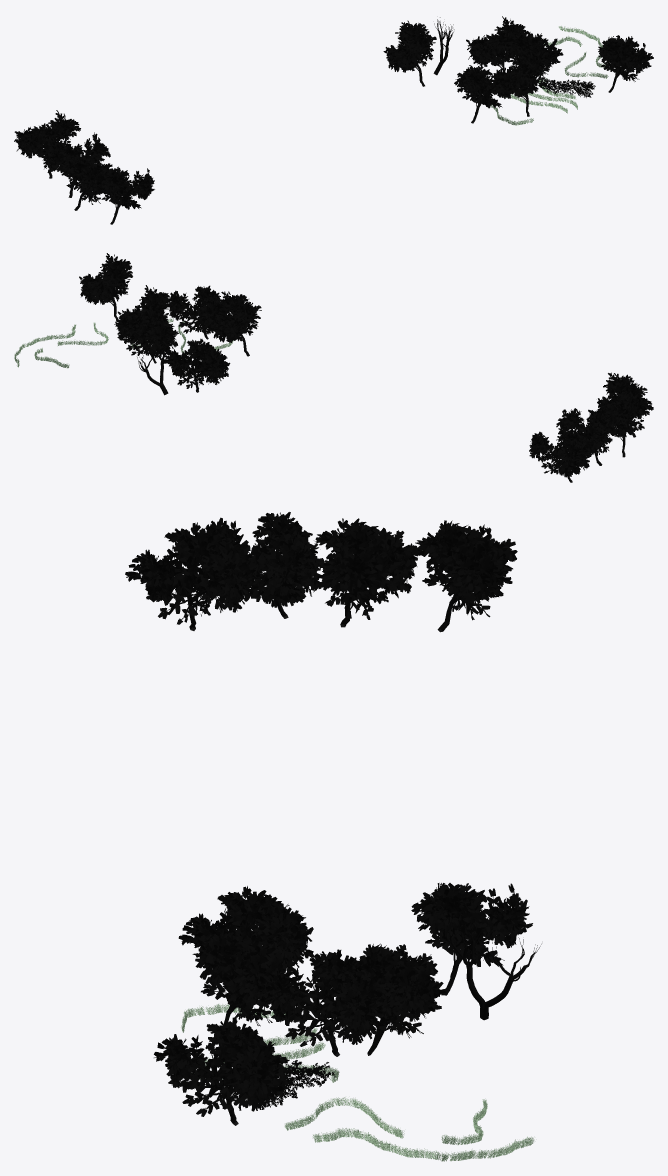
The model's file is Floral_Export.fbx.
3 renders of one model, top to bottom at view 1: azimuth 30°, elevation 25°; view 2: azimuth 150°, elevation 25°; view 3: azimuth 270°, elevation 25°, orthographic. The views are drawn at different scales.
Visible parts, largest first — view 1: birchBlowing7Leaf, birchBlowing3Leaf, birchBlowing8Leaf, birchBlowing15Leaf, birchBlowing5Leaf, birchBlowing9Leaf, birchBlowing11Leaf, birchBlowing4Leaf, birchBlowing12Leaf, birchBlowing6Leaf, sumacLight1Leaf, birchDead1Main; view 2: birchBlowing7Leaf, birchBlowing5Leaf, birchBlowing15Leaf, birchBlowing4Leaf, birchBlowing8Leaf, birchBlowing3Leaf, birchBlowing12Leaf, birchBlowing11Leaf, birchBlowing9Leaf, birchBlowing6Leaf, birchDead1Main; view 3: birchBlowing6Leaf, birchBlowing8Leaf, birchBlowing9Leaf, birchBlowing12Leaf, birchBlowing7Leaf, birchBlowing15Leaf, birchBlowing11Leaf, birchBlowing4Leaf, birchBlowing3Leaf, birchBlowing5Leaf, birchDead1Main, riceSummer5Main (+1 smaller).
Part boxes in pixels (x1,y1,x2,y2): birchBlowing7Leaf: [383, 20, 436, 72]; birchBlowing3Leaf: [454, 65, 515, 108]; birchBlowing8Leaf: [598, 35, 653, 81]; birchBlowing15Leaf: [14, 110, 80, 158]; birchBlowing5Leaf: [466, 16, 527, 66]; birchBlowing9Leaf: [97, 166, 154, 209]; birchBlowing11Leaf: [63, 155, 113, 204]; birchBlowing4Leaf: [489, 49, 551, 98]; birchBlowing12Leaf: [42, 132, 110, 177]; birchBlowing6Leaf: [507, 31, 563, 76]; sumacLight1Leaf: [539, 77, 593, 97]; birchDead1Main: [433, 17, 454, 75]; birchBlowing7Leaf: [162, 338, 230, 388]; birchBlowing5Leaf: [114, 309, 178, 357]; birchBlowing15Leaf: [529, 429, 591, 477]; birchBlowing4Leaf: [167, 285, 230, 334]; birchBlowing8Leaf: [79, 253, 132, 304]; birchBlowing3Leaf: [210, 291, 261, 342]; birchBlowing12Leaf: [556, 408, 613, 457]; birchBlowing11Leaf: [586, 390, 653, 437]; birchBlowing9Leaf: [597, 372, 647, 410]; birchBlowing6Leaf: [117, 285, 171, 335]; birchDead1Main: [137, 337, 173, 395]; birchBlowing6Leaf: [255, 949, 391, 1046]; birchBlowing8Leaf: [154, 1016, 289, 1116]; birchBlowing9Leaf: [125, 522, 258, 624]; birchBlowing12Leaf: [314, 518, 421, 619]; birchBlowing7Leaf: [411, 883, 532, 966]; birchBlowing15Leaf: [415, 520, 517, 620]; birchBlowing11Leaf: [205, 512, 324, 607]; birchBlowing4Leaf: [192, 930, 294, 1026]; birchBlowing3Leaf: [178, 886, 314, 979]; birchBlowing5Leaf: [350, 943, 447, 1038]; birchDead1Main: [437, 919, 541, 1020]; riceSummer5Main: [312, 1128, 437, 1159].
Bounding box in the file's own units: 5.18 × 0.502 × 1.63.
